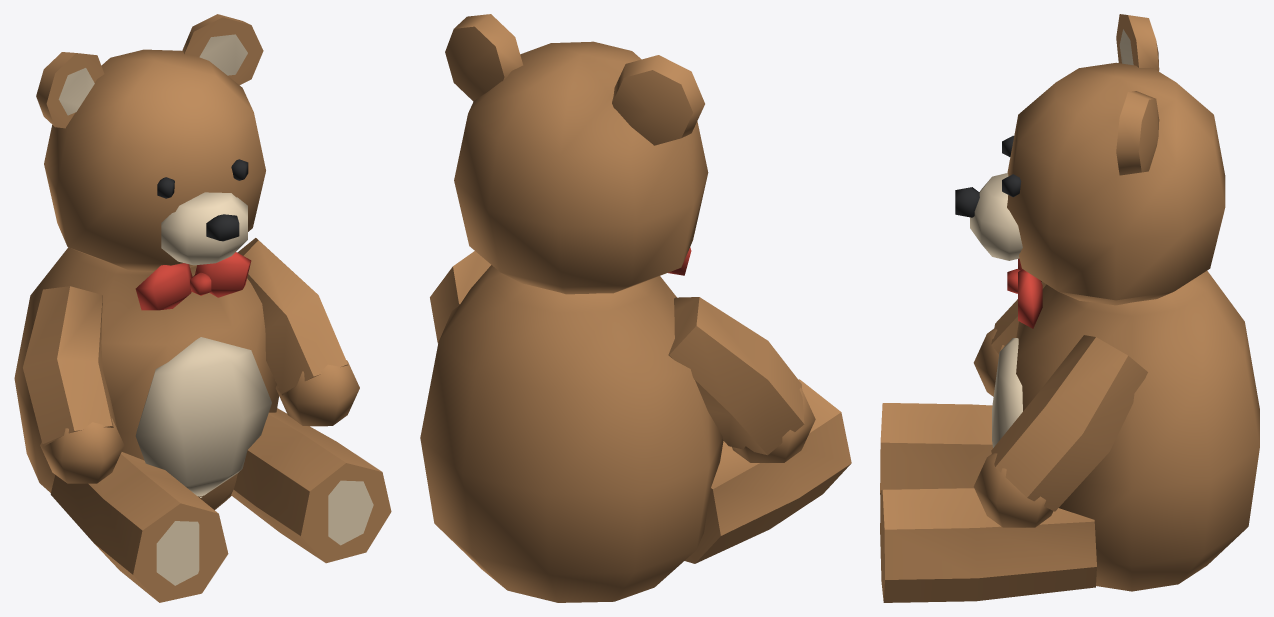
Rendered from stuffedToy.glb.
3 renders of one model, left to right at view 1: azimuth 30°, elevation 25°; view 2: azimuth 150°, elevation 25°; view 3: azimuth 270°, elevation 25°, orthographic. The views are drawn at different scales.
Visible parts, largest first — view 1: stuffedToy; view 2: stuffedToy; view 3: stuffedToy.
Boxes of the visible parts, <box> form: stuffedToy: <box>14,14,391,602</box>; stuffedToy: <box>420,14,851,602</box>; stuffedToy: <box>880,14,1259,602</box>.
Bounding box in the file's own units: 0.1933 × 0.279 × 0.1919.
